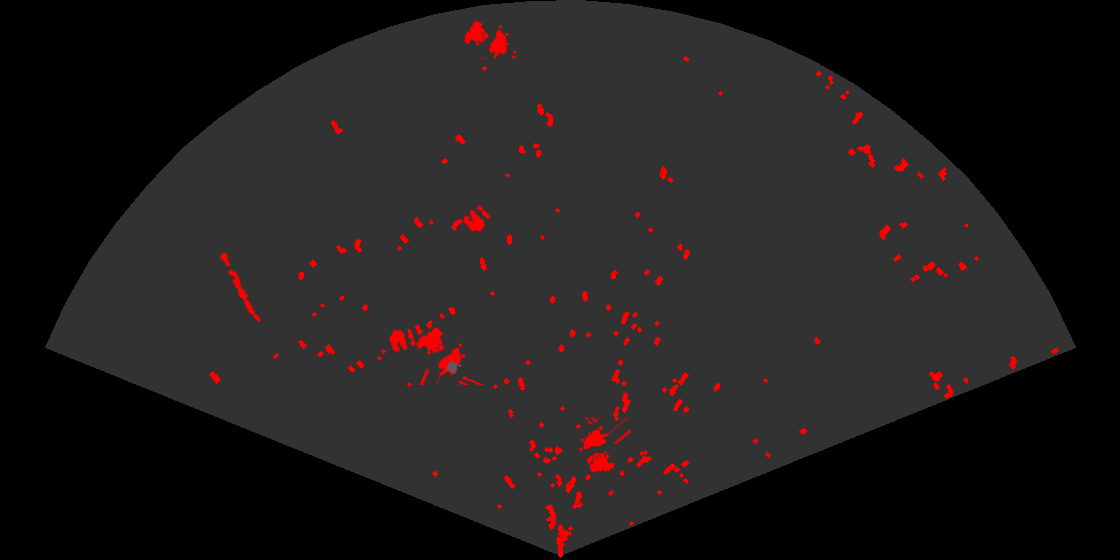ball: (462, 204, 492, 233), (387, 327, 417, 354)
cage: (414, 326, 483, 385), (577, 417, 631, 475), (462, 19, 516, 59)
chain: (217, 247, 262, 324)
